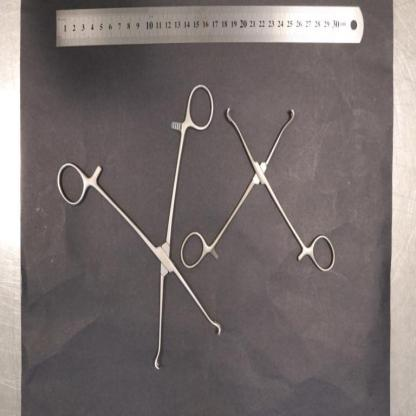8 Babcock Tissue Forceps: (56, 86, 221, 370)
Babcock Tissue Forceps: (181, 104, 336, 273)
